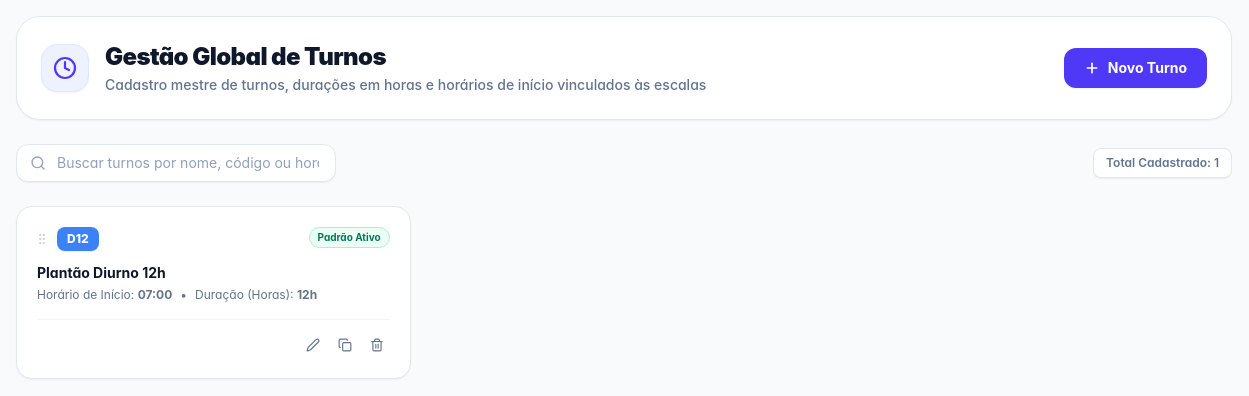
Test case: ShiftsManagementView › duplicates a shift
Click the button titled "duplicar": (345, 345) [332,332,358,358]
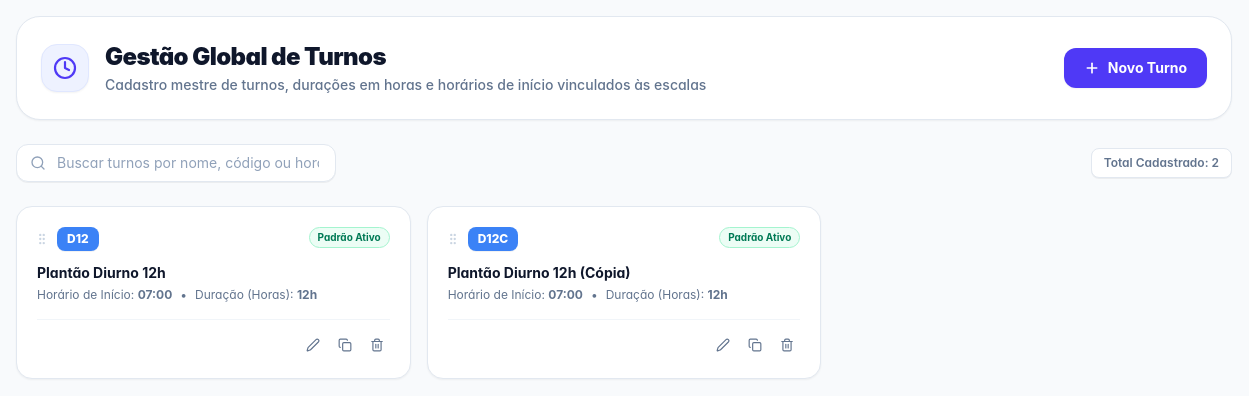
Now the heading "Plantão Diurno 12h (Cópia)" is shown, box [448,264,631,281]
